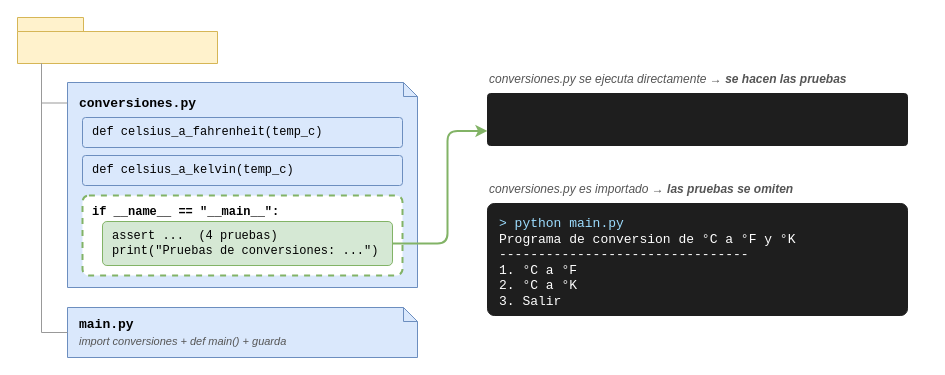
The diagram is 945 pixels wide and 375 high, and some of its shapes have lost their labels. Here are the shapes that lost their labels. From the top down, the centre of each, then its label:
At (117,40): "2_con_guarda/".
At (697,119): "> python conversiones.py Pruebas de conversiones: todas pasaron".
